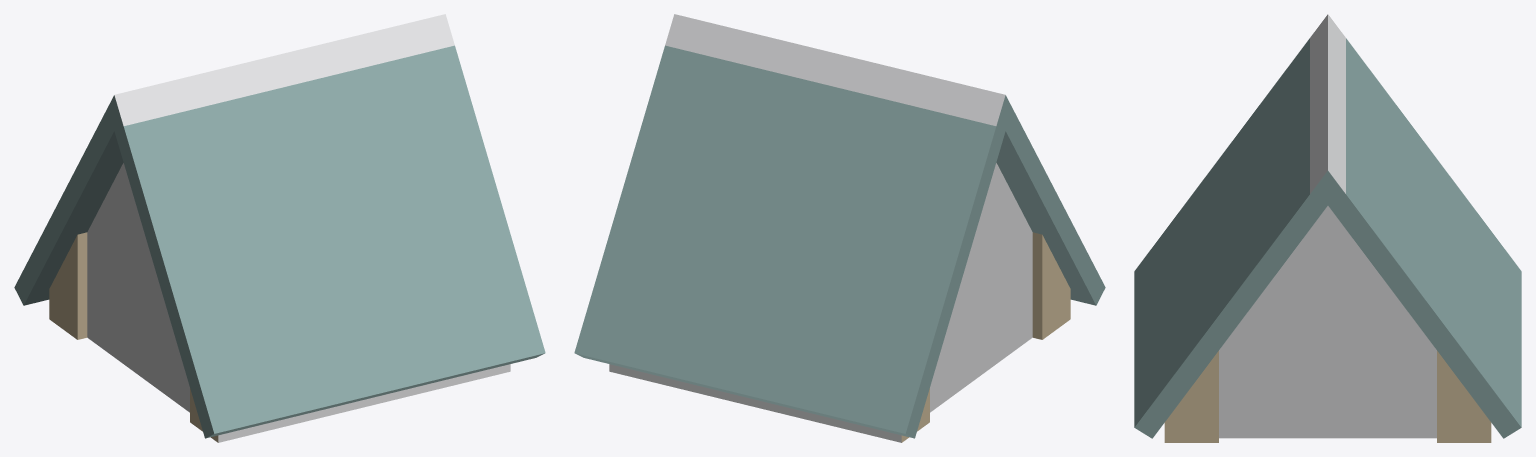
File: Roof_Straight_Green_01.glb
The picture shows the model from 3 angles, left to right: view 1: azimuth 30°, elevation 25°; view 2: azimuth 150°, elevation 25°; view 3: azimuth 270°, elevation 25°; orthographic projection. The views are drawn at different scales.
Parts seen in each view (by area): view 1: Mesh1 Roof_Straight_Green Model; view 2: Mesh1 Roof_Straight_Green Model; view 3: Mesh1 Roof_Straight_Green Model.
Boxes of the visible parts, x1,y1,x2,y2 form: Mesh1 Roof_Straight_Green Model: (14,14,545,442); Mesh1 Roof_Straight_Green Model: (574,14,1105,442); Mesh1 Roof_Straight_Green Model: (1134,14,1521,442).
Bounding box in the file's own units: 3.4 × 2.86 × 3.56.
